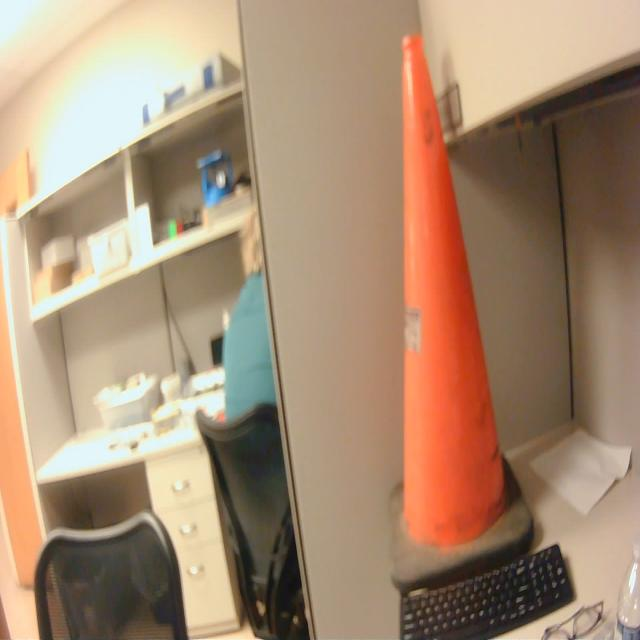traffic cone: (383, 27, 539, 591)
